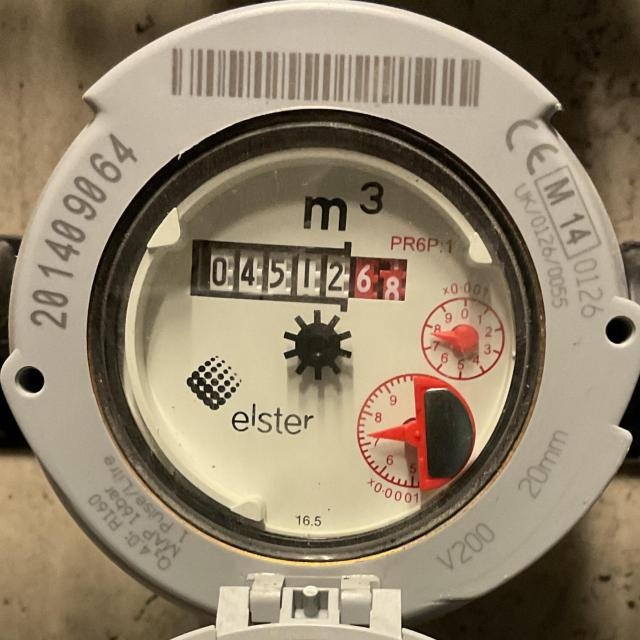gaz_meter: (113, 116, 532, 543)
indication: (189, 241, 409, 307)
